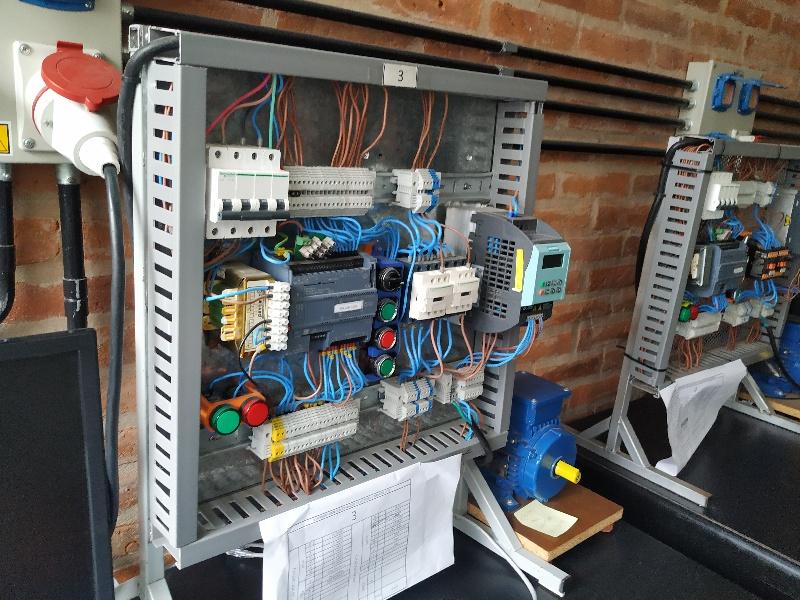Tablero 3: (193, 52, 573, 513)
